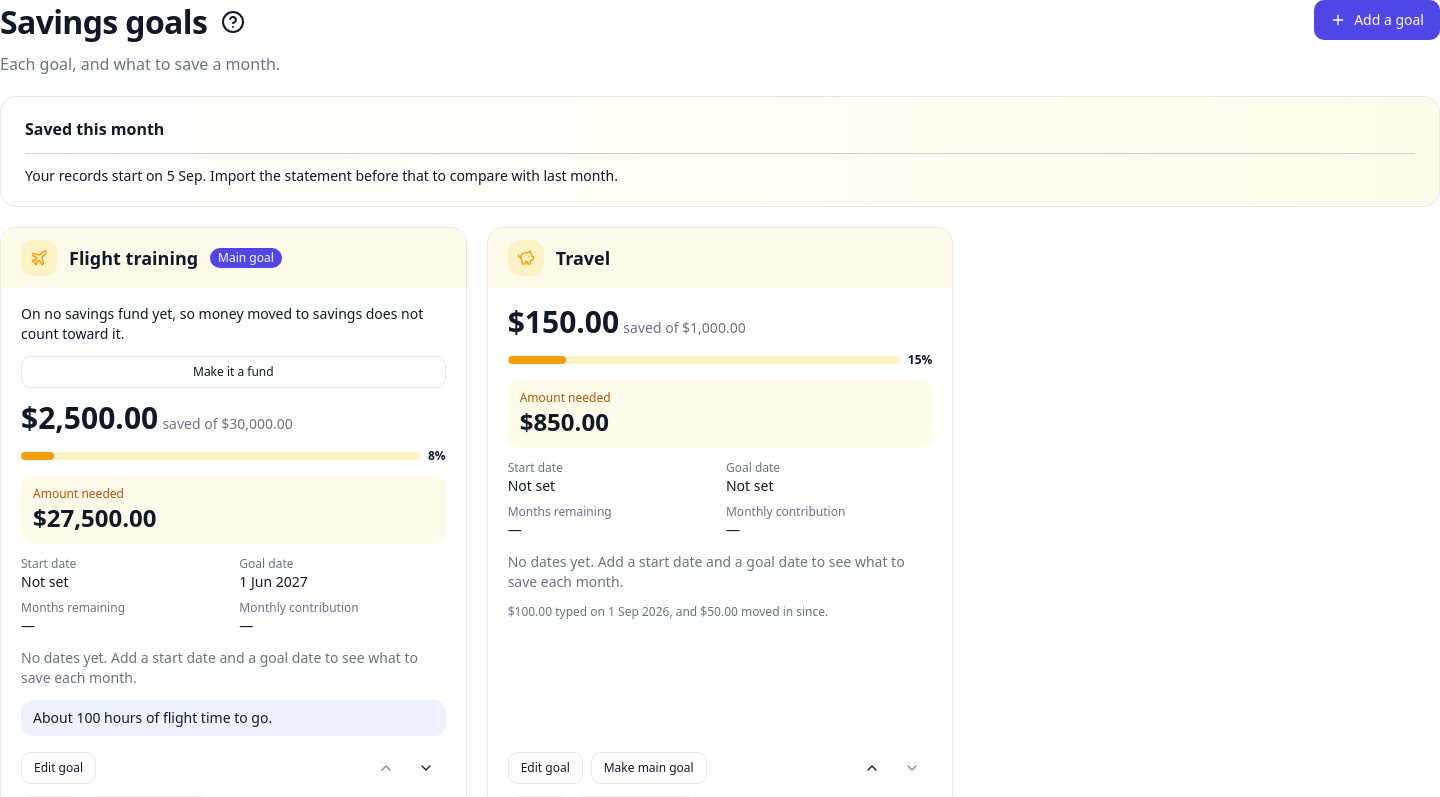
SavingsScreen, setting and linking goals › writes a retyped balance with today as its day (N52)
Click the button "Edit goal" below "$100.00" at (545, 768), box 508,752 -> 583,784
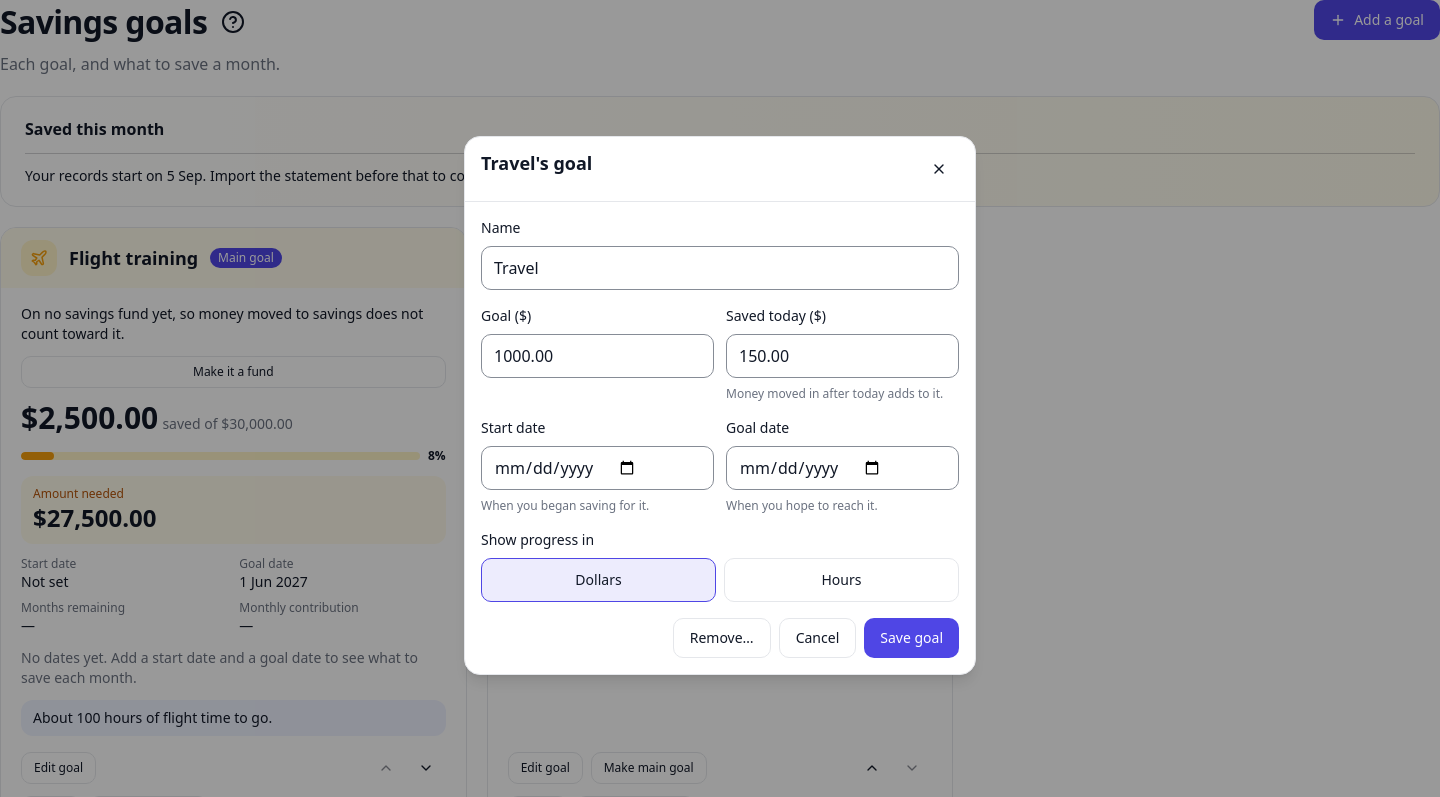
Replace the text in the field labelled "Saved today ($) Money moved in after today adds to it." with "400" at (842, 356), box 726,334 -> 959,378
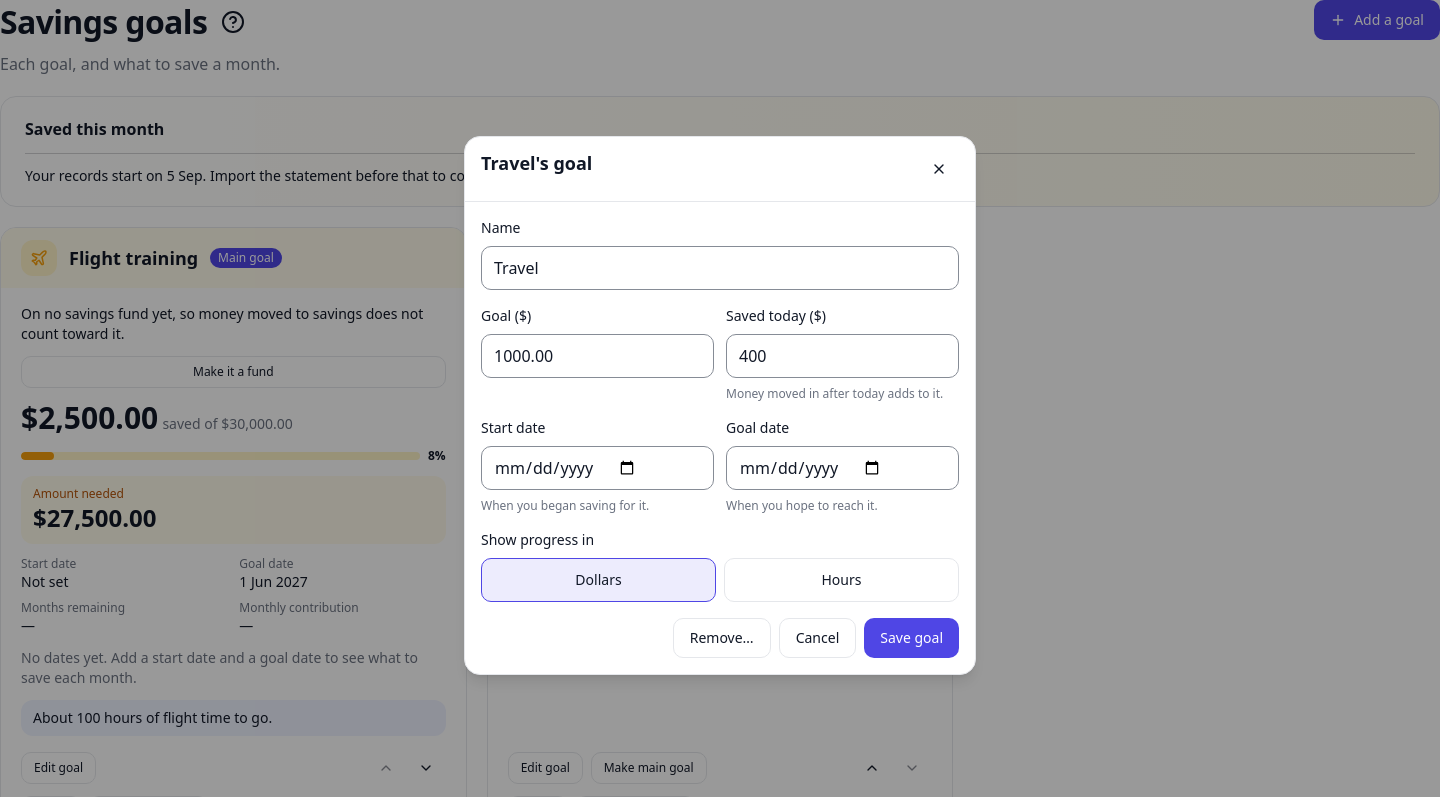
Click the button "Save goal" at (912, 638), box 864,618 -> 959,658
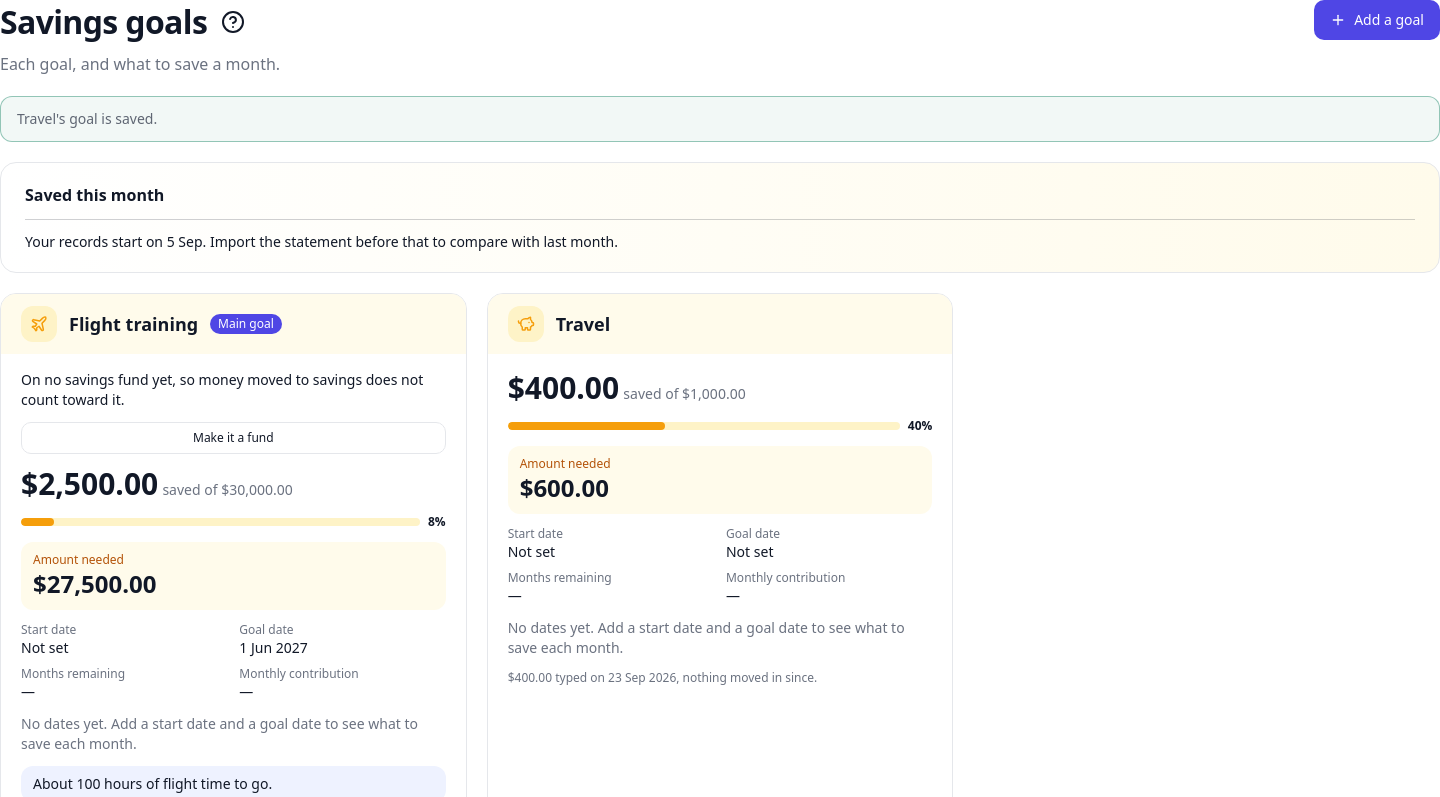
Expected: the text "Travel's goal is saved." is shown, 17,109 -> 157,128
